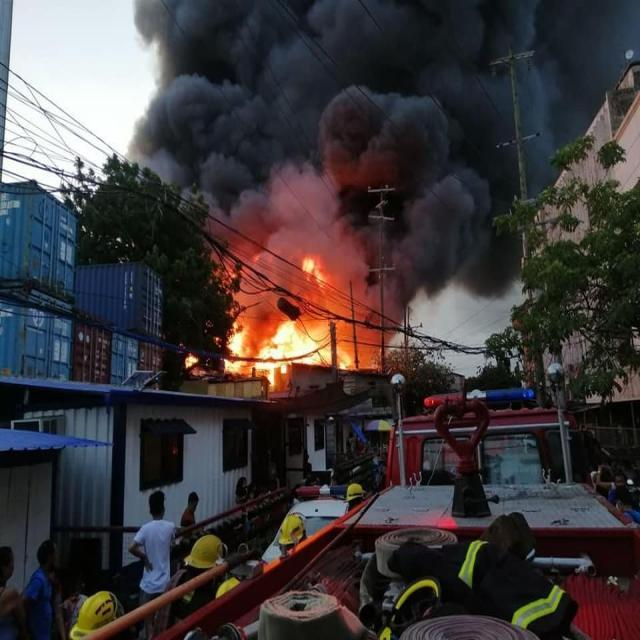Fire: (222, 314, 354, 388), (294, 245, 332, 292)
Smoke: (132, 0, 640, 276)
